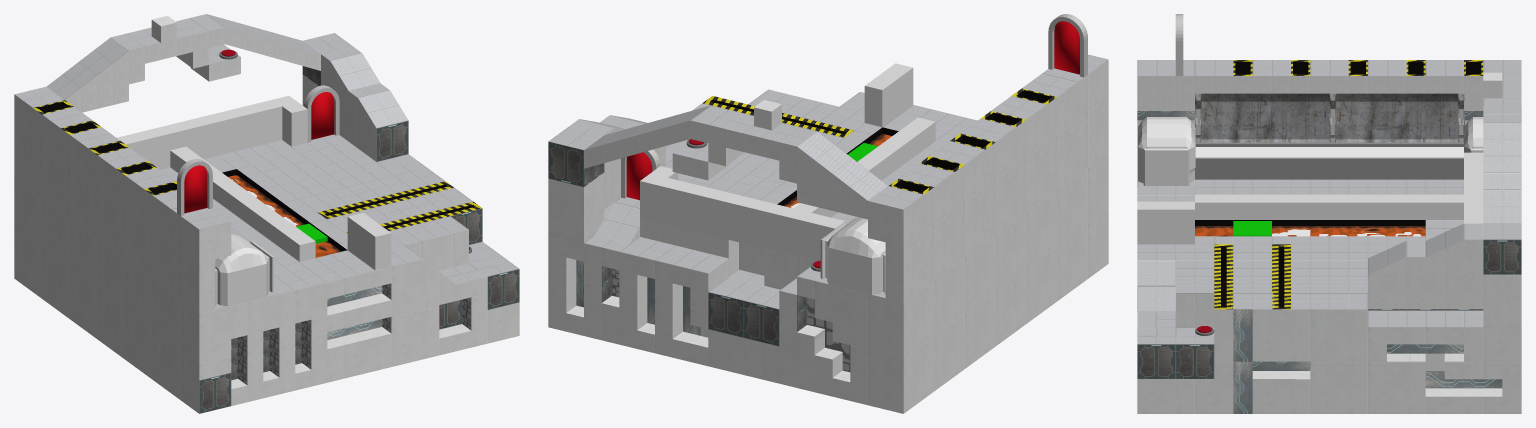
File: Nivel 1 Texturizado.fbx
The picture shows the model from 3 angles, left to right: view 1: azimuth 30°, elevation 25°; view 2: azimuth 150°, elevation 25°; view 3: azimuth 270°, elevation 25°; orthographic projection. The views are drawn at different scales.
Visible parts, largest first — view 1: Base, Pared final, Pared 3, Modulo movil 1, Pared 1, Horno de salida, Modulo movil 2, Pared 2, Puerta 2, Puerta 1, Puerta 2 Marco, Puerta 1 Marco; view 2: Base, Pared final, Pared 3, Horno, Modulo movil 2, Pared 1, Pared 2, Modulo movil 1, Puerta 2, Puerta 2 Marco, Puerta 1; view 3: Base, Pared final, Pared final 2, Cinta transportadora, Modulo movil 1, Pared 1, Horno de salida, Pared 2, Pared 3, Modulo movil 2, Horno, Plataforma movil (+1 smaller).
Boxes of the visible parts, x1,y1,x2,y2 form: Base: [14, 14, 519, 413]; Pared final: [14, 29, 231, 313]; Pared 3: [117, 95, 307, 169]; Modulo movil 1: [321, 46, 408, 161]; Pared 1: [170, 146, 315, 261]; Horno de salida: [215, 234, 273, 306]; Modulo movil 2: [143, 15, 240, 81]; Pared 2: [347, 213, 391, 270]; Puerta 2: [184, 165, 207, 213]; Puerta 1: [311, 92, 334, 139]; Puerta 2 Marco: [177, 159, 212, 215]; Puerta 1 Marco: [304, 85, 339, 142]; Base: [548, 89, 1108, 413]; Pared final: [761, 54, 1108, 302]; Pared 3: [640, 166, 845, 261]; Horno: [820, 217, 885, 294]; Modulo movil 2: [672, 100, 781, 180]; Pared 1: [794, 117, 935, 217]; Pared 2: [864, 63, 913, 127]; Modulo movil 1: [569, 115, 665, 209]; Puerta 2: [1054, 21, 1079, 74]; Puerta 2 Marco: [1048, 14, 1087, 77]; Puerta 1: [626, 152, 652, 200]; Base: [1137, 106, 1521, 413]; Pared final: [1137, 60, 1521, 154]; Pared final 2: [1195, 93, 1464, 142]; Cinta transportadora: [1195, 142, 1463, 179]; Modulo movil 1: [1368, 223, 1483, 309]; Pared 1: [1195, 194, 1463, 219]; Horno de salida: [1138, 117, 1195, 185]; Pared 2: [1137, 201, 1194, 244]; Pared 3: [1464, 152, 1483, 223]; Modulo movil 2: [1483, 72, 1521, 106]; Horno: [1464, 117, 1483, 152]; Plataforma movil: [1233, 221, 1271, 236].
Size of the model in its own units: 2000 by 1400 by 2000.
